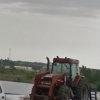Tractor: (27, 46, 95, 100)
